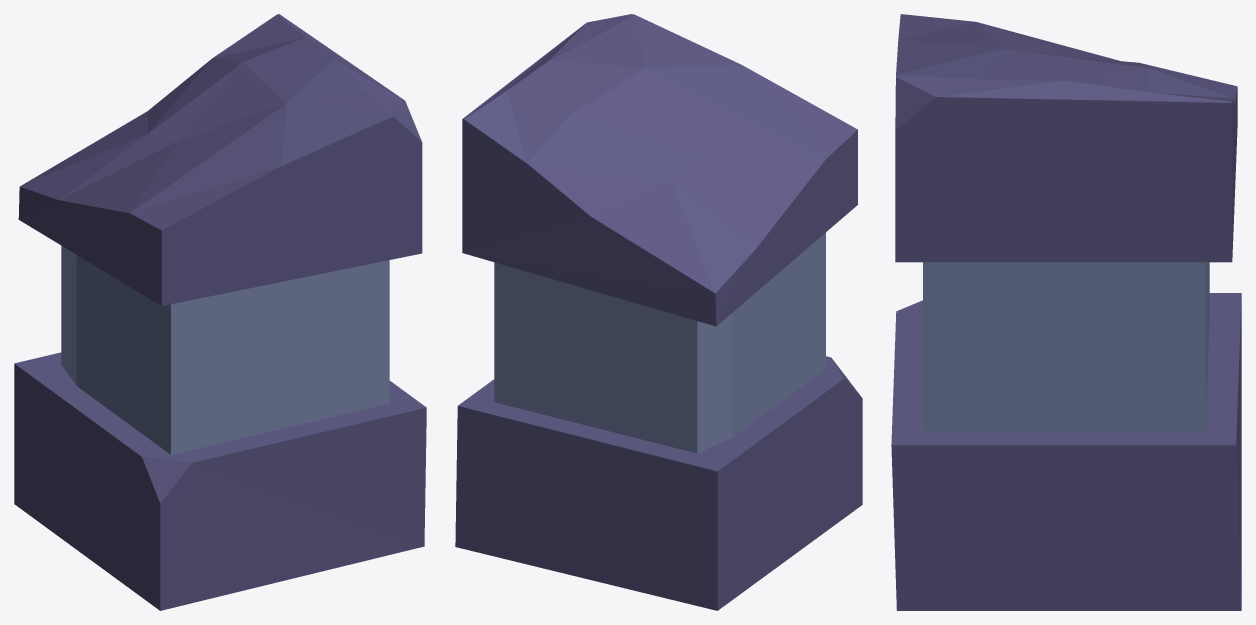
The model's file is Fence_Column_06.fbx.
3 renders of one model, left to right at view 1: azimuth 30°, elevation 25°; view 2: azimuth 150°, elevation 25°; view 3: azimuth 270°, elevation 25°, orthographic. The views are drawn at different scales.
Visible parts, largest first — view 1: Fence_Column_06; view 2: Fence_Column_06; view 3: Fence_Column_06.
Part boxes in pixels (bbox=[...]): Fence_Column_06: bbox=[14, 14, 426, 610]; Fence_Column_06: bbox=[455, 14, 862, 610]; Fence_Column_06: bbox=[891, 14, 1241, 610].
Bounding box in the file's own units: 78.67 × 125 × 76.54.
